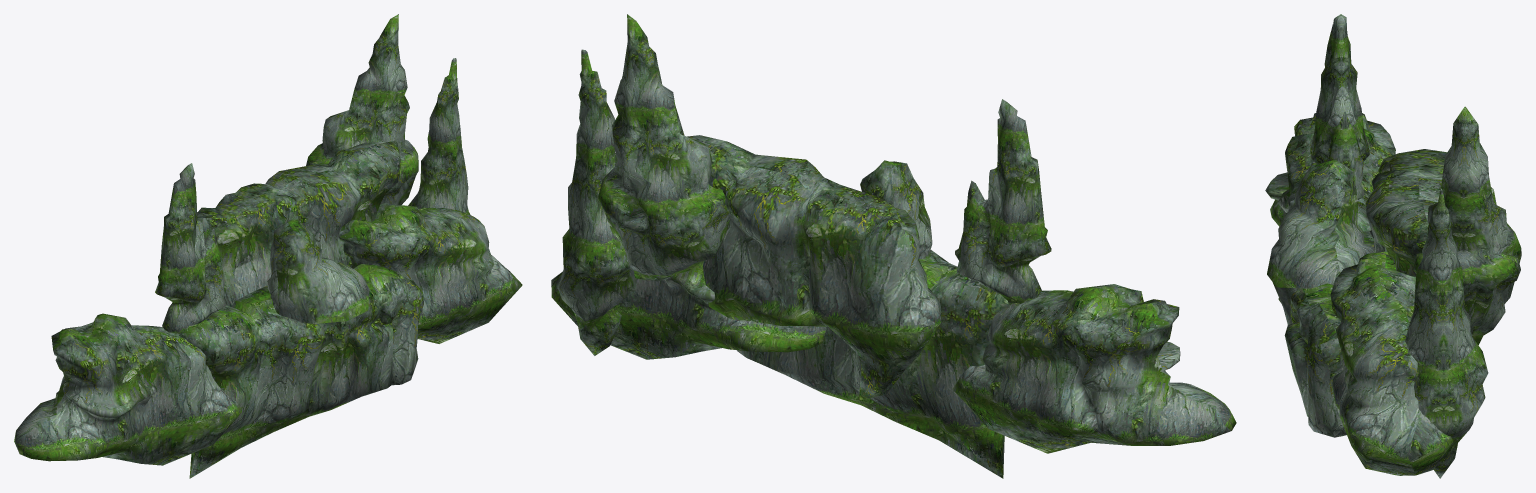
File: environment_stone_shanya_003_a.FBX
3 renders of one model, left to right at view 1: azimuth 30°, elevation 25°; view 2: azimuth 150°, elevation 25°; view 3: azimuth 270°, elevation 25°, orthographic. The views are drawn at different scales.
Parts seen in each view (by area): view 1: environment_stone_shanya_003_a8, environment_stone_shanya_003_a7, environment_stone_shanya_003_a3, environment_stone_shanya_003_a2, environment_stone_shanya_003_a6, environment_stone_shanya_003_a5, environment_stone_shanya_003_a1, environment_stone_shanya_003_a4; view 2: environment_stone_shanya_003_a3, environment_stone_shanya_003_a7, environment_stone_shanya_003_a6, environment_stone_shanya_003_a8, environment_stone_shanya_003_a4, environment_stone_shanya_003_a5, environment_stone_shanya_003_a2, environment_stone_shanya_003_a1; view 3: environment_stone_shanya_003_a2, environment_stone_shanya_003_a4, environment_stone_shanya_003_a6, environment_stone_shanya_003_a1, environment_stone_shanya_003_a8, environment_stone_shanya_003_a3, environment_stone_shanya_003_a5, environment_stone_shanya_003_a7.
Part boxes in pixels (x1,y1,x2,y2): environment_stone_shanya_003_a8: (179, 264, 423, 478); environment_stone_shanya_003_a7: (14, 313, 241, 465); environment_stone_shanya_003_a3: (197, 141, 401, 307); environment_stone_shanya_003_a2: (338, 203, 522, 343); environment_stone_shanya_003_a6: (306, 14, 418, 204); environment_stone_shanya_003_a5: (155, 163, 227, 333); environment_stone_shanya_003_a1: (267, 219, 369, 323); environment_stone_shanya_003_a4: (408, 58, 470, 214); environment_stone_shanya_003_a3: (687, 135, 941, 400); environment_stone_shanya_003_a7: (952, 284, 1236, 453); environment_stone_shanya_003_a6: (598, 14, 729, 280); environment_stone_shanya_003_a8: (737, 250, 1008, 478); environment_stone_shanya_003_a4: (558, 49, 634, 355); environment_stone_shanya_003_a5: (955, 99, 1051, 310); environment_stone_shanya_003_a2: (551, 260, 826, 359); environment_stone_shanya_003_a1: (860, 160, 932, 258); environment_stone_shanya_003_a2: (1330, 251, 1452, 475); environment_stone_shanya_003_a4: (1405, 188, 1488, 478); environment_stone_shanya_003_a6: (1413, 106, 1521, 344); environment_stone_shanya_003_a1: (1267, 159, 1375, 288); environment_stone_shanya_003_a8: (1273, 201, 1374, 437); environment_stone_shanya_003_a3: (1365, 149, 1446, 276); environment_stone_shanya_003_a5: (1310, 14, 1369, 199); environment_stone_shanya_003_a7: (1265, 113, 1395, 302).
Size of the model in its own units: 2068 by 1354 by 749.
Materials: 1 (1 with a texture image).
